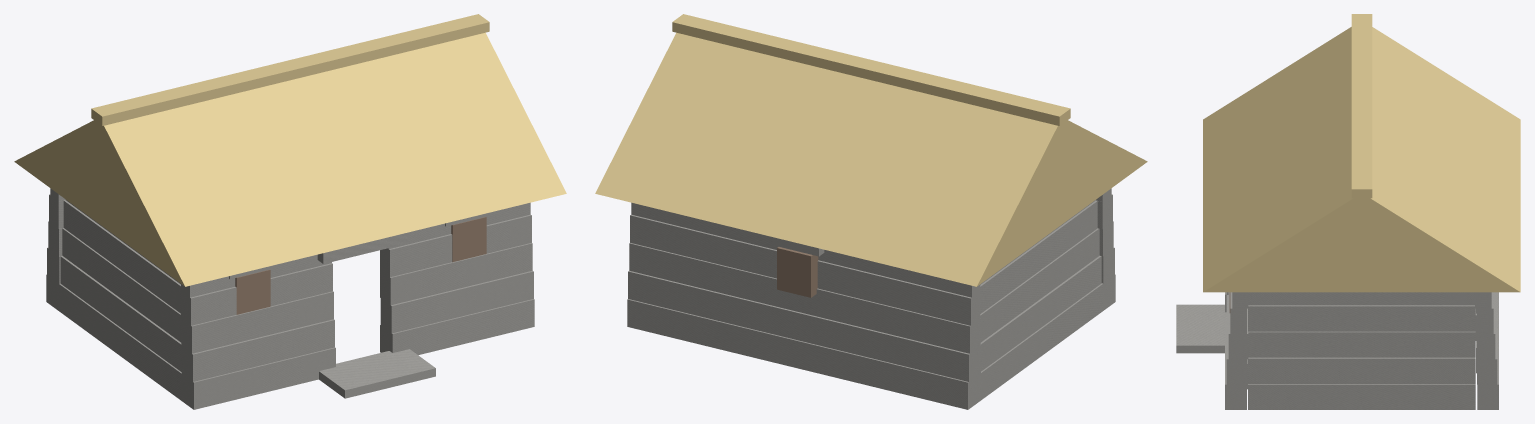
Rendered from andean-terraces-and-stone-village-stone-dwelling-3cbc183b__38249.glb.
3 views of the same model, side by side, from view 1: azimuth 30°, elevation 25°; view 2: azimuth 150°, elevation 25°; view 3: azimuth 270°, elevation 25° (orthographic). The views are drawn at different scales.
Visible parts, largest first — view 1: stone-dwelling-thatch, stone-dwelling-stone, stone-dwelling-earth; view 2: stone-dwelling-thatch, stone-dwelling-stone, stone-dwelling-earth; view 3: stone-dwelling-thatch, stone-dwelling-stone.
Boxes of the visible parts, x1=… form: stone-dwelling-thatch: x1=14, y1=14, x2=566, y2=286; stone-dwelling-stone: x1=46, y1=188, x2=534, y2=409; stone-dwelling-earth: x1=235, y1=217, x2=486, y2=314; stone-dwelling-thatch: x1=595, y1=14, x2=1147, y2=286; stone-dwelling-stone: x1=627, y1=188, x2=1115, y2=409; stone-dwelling-earth: x1=777, y1=247, x2=818, y2=297; stone-dwelling-thatch: x1=1203, y1=14, x2=1520, y2=292; stone-dwelling-stone: x1=1176, y1=292, x2=1498, y2=409.
Size of the model in its own units: 6.82 by 4.19 by 5.66.
Materials: 4 (2 with a texture image).
